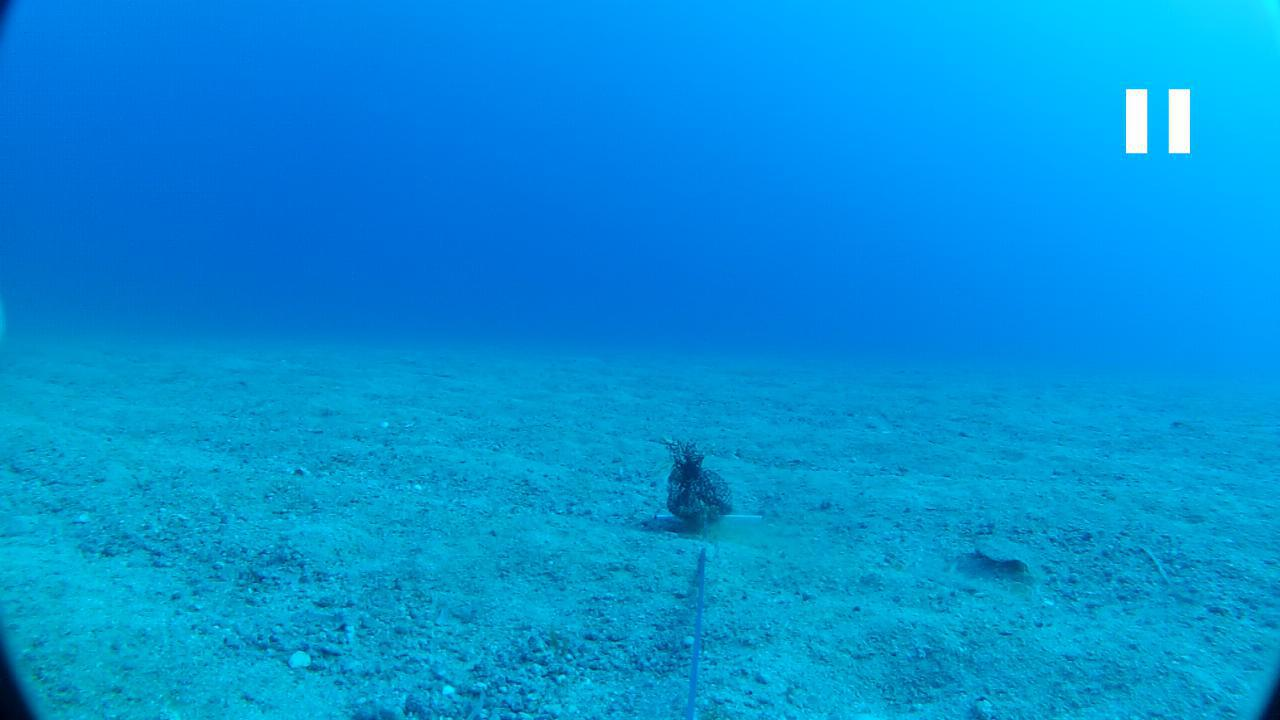bothus: (958, 522, 1057, 581)
